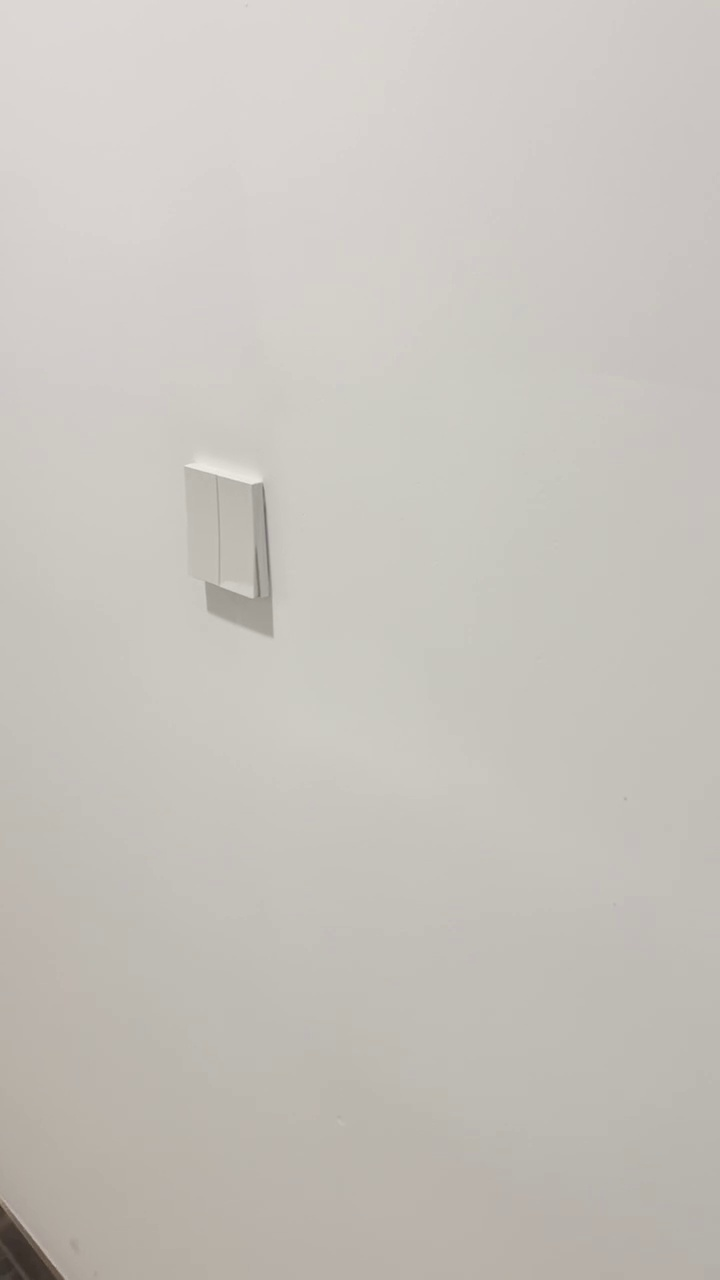button: (179, 457, 280, 605)
